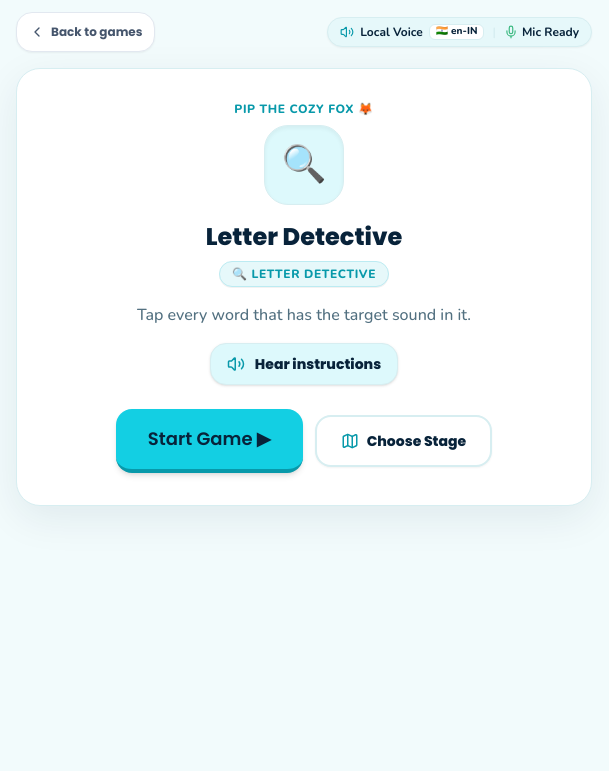
Letter Detective: Step 2 — Curriculum & Checkpoint Suite › 16. renders intro screen with GameProgressionHub showing Letter Detective stages
The width and height of the screenshot is (609, 771).
Expected: the heading "Letter Detective" is shown, [206, 220, 402, 253]
Expected: the text "🔍 Letter Detective" is shown, [219, 261, 389, 287]
Note: Click Choose Stage to open stage roadmap
Click the button with test id "choose-stage-button" at x=403, y=441, box [315, 415, 492, 467]
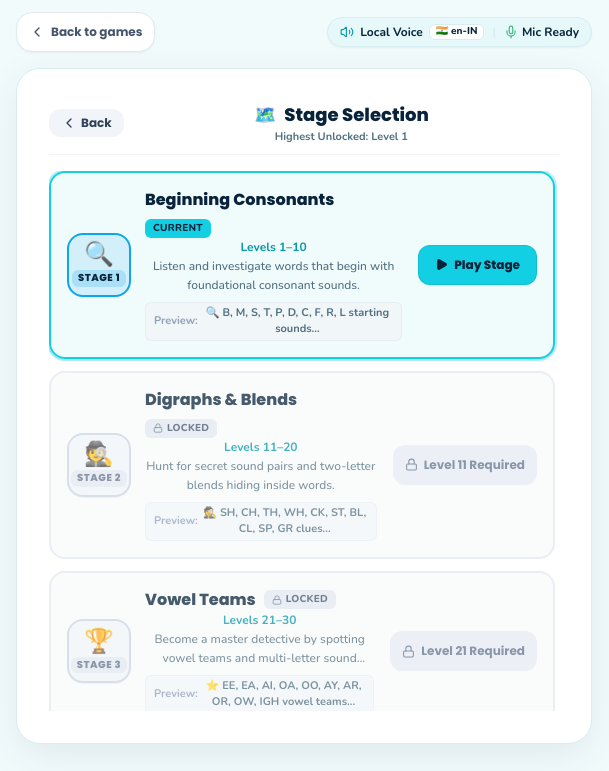
Now the text "Beginning Consonants" is shown, box [145, 188, 334, 210]
Now the text "Digraphs & Blends" is shown, box [145, 388, 297, 410]
Now the text "Vowel Teams" is shown, box [145, 588, 256, 610]
